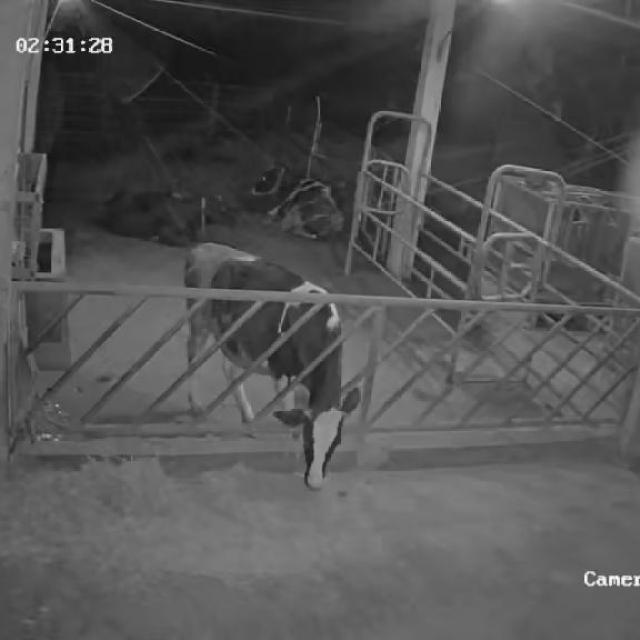feeding: (180, 236, 362, 492)
lying down: (99, 181, 243, 246), (248, 159, 348, 240)
